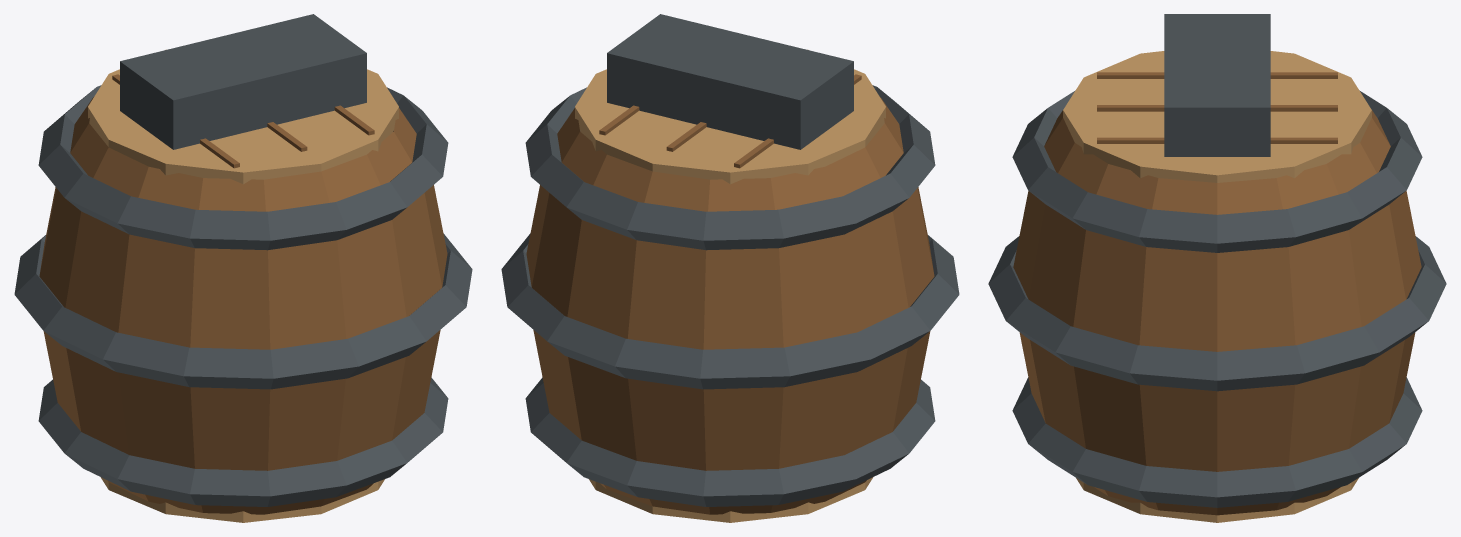
Rendered from cargo-iron.glb.
3 views of the same model, side by side, from view 1: azimuth 30°, elevation 25°; view 2: azimuth 150°, elevation 25°; view 3: azimuth 270°, elevation 25° (orthographic).
Visible parts, largest first — view 1: cargo-iron; view 2: cargo-iron; view 3: cargo-iron.
Part boxes in pixels (box(x1,y1,x2,y2)): cargo-iron: box(14, 14, 472, 522); cargo-iron: box(501, 14, 959, 522); cargo-iron: box(988, 14, 1446, 522).
Bounding box in the file's own units: 0.95 × 0.9075 × 0.95.
